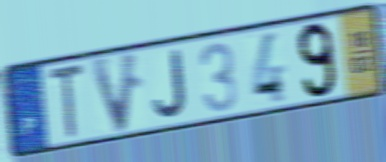3: (198, 41, 238, 114)
4: (247, 30, 292, 107)
9: (294, 20, 339, 100)
J: (152, 47, 189, 121)
T: (46, 61, 87, 143)
V: (87, 48, 142, 138)
